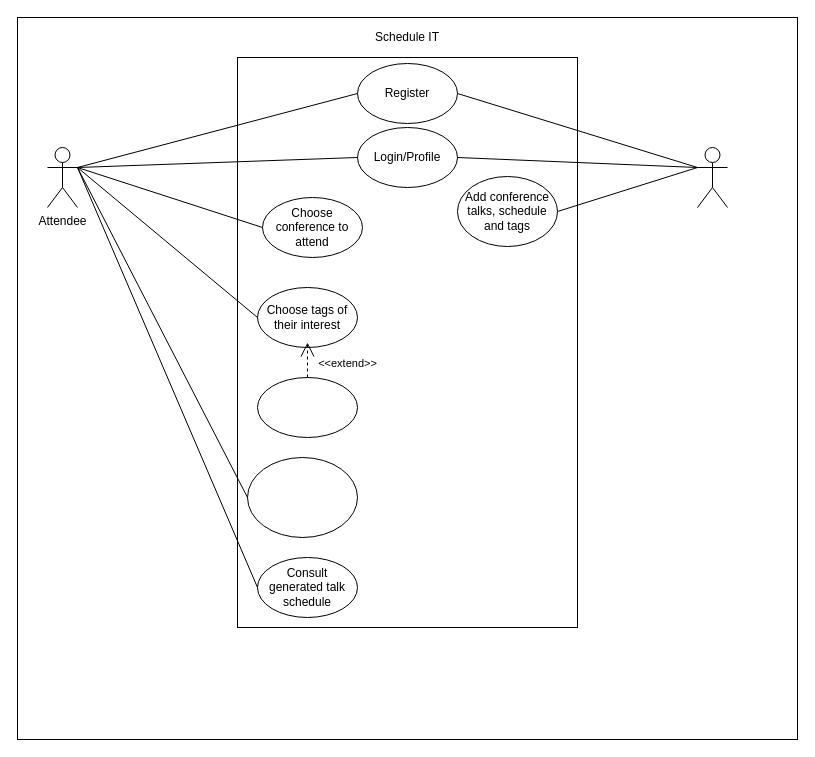
This 815x757 diagram has some shape labels left out. Each missing label, with the centre of its shape:
Conference Admin: point (712, 177)
Have a generated schedule according to own interests: point (302, 497)
Prioritize tags: point (307, 407)
